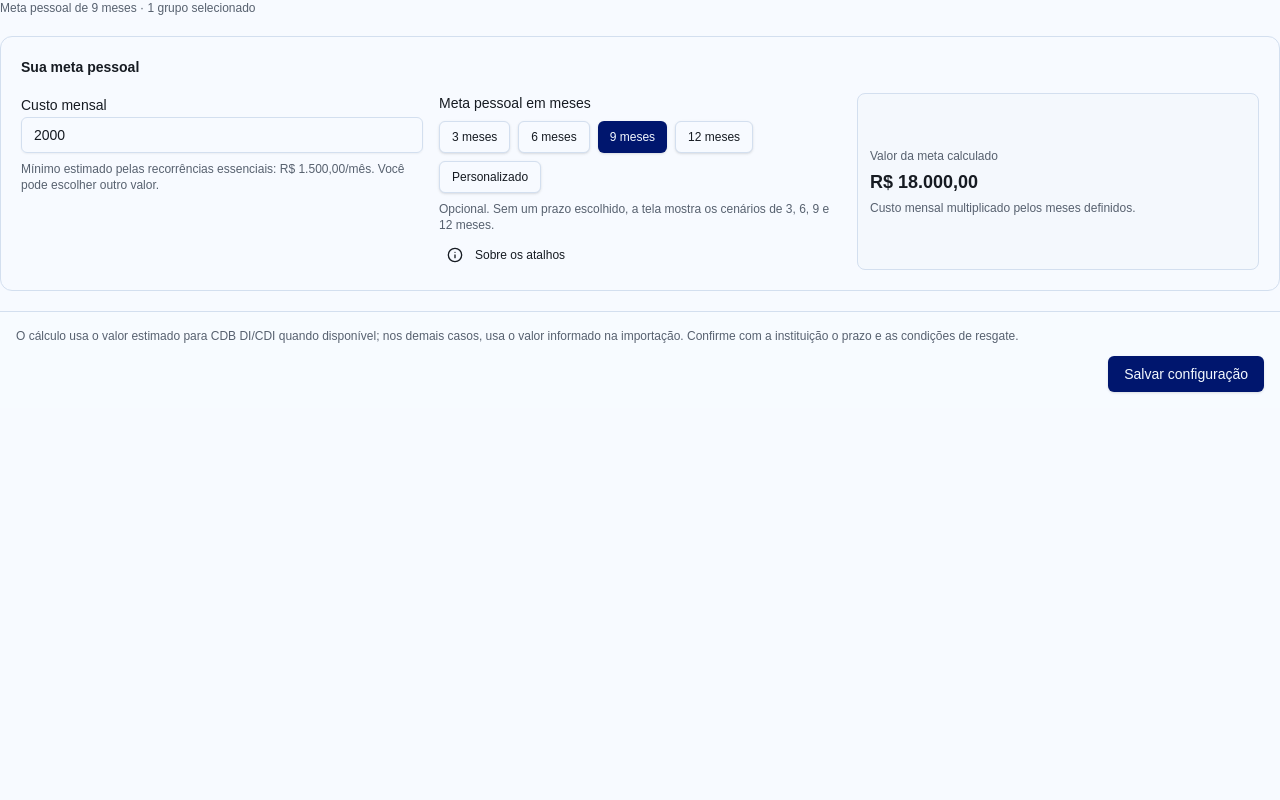
it: EmergencyReserveEditor › preserves a custom month value across shortcut changes and explains the shortcuts
The width and height of the screenshot is (1280, 800).
Check: the text "R$ 18.000,00" is shown, box left=870, top=172, right=978, bottom=192
What coordinates should you click on to do the following:
click the button "12 meses"
I would click on:
 (714, 137)
Its box is left=675, top=121, right=753, bottom=153.
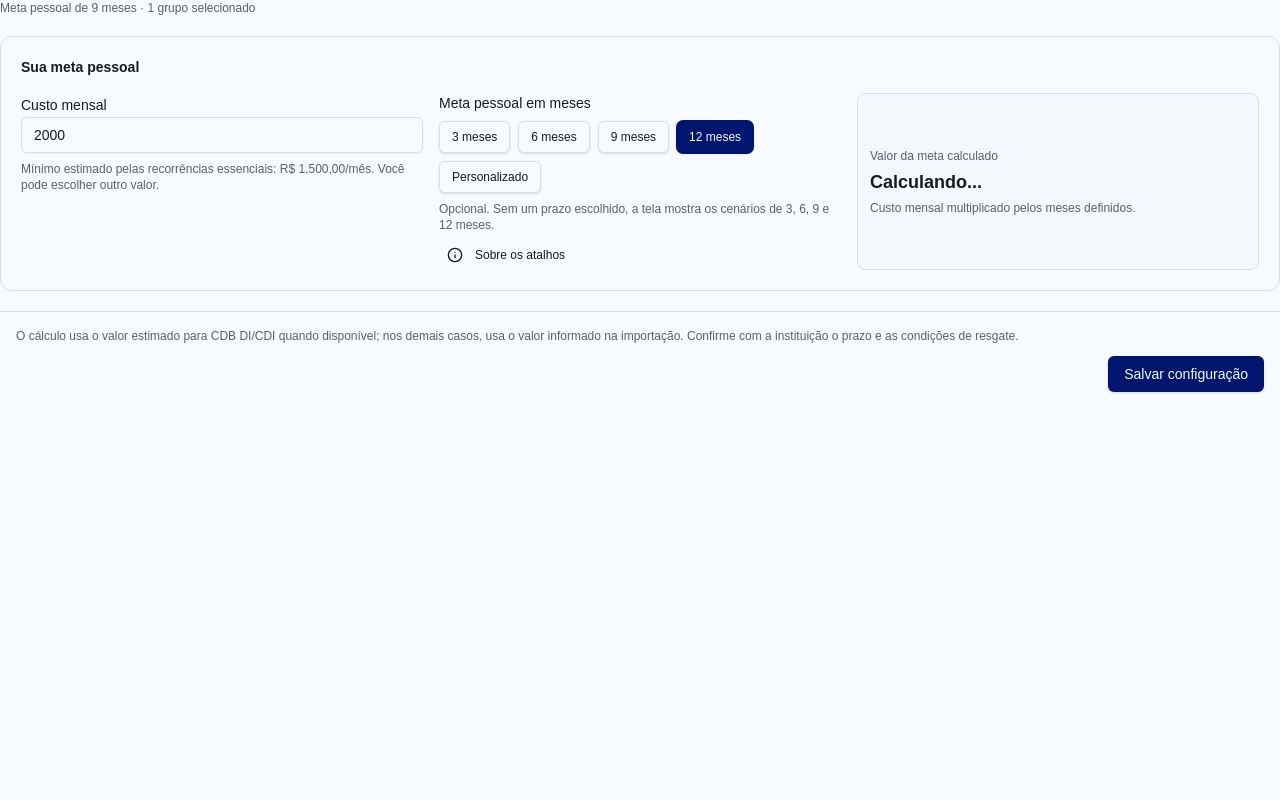
Check: the field labelled "Quantidade de meses" is not shown
What coordinates should you click on to do the following:
click the button "Personalizado"
I would click on:
 (490, 177)
Its box is left=439, top=161, right=541, bottom=193.
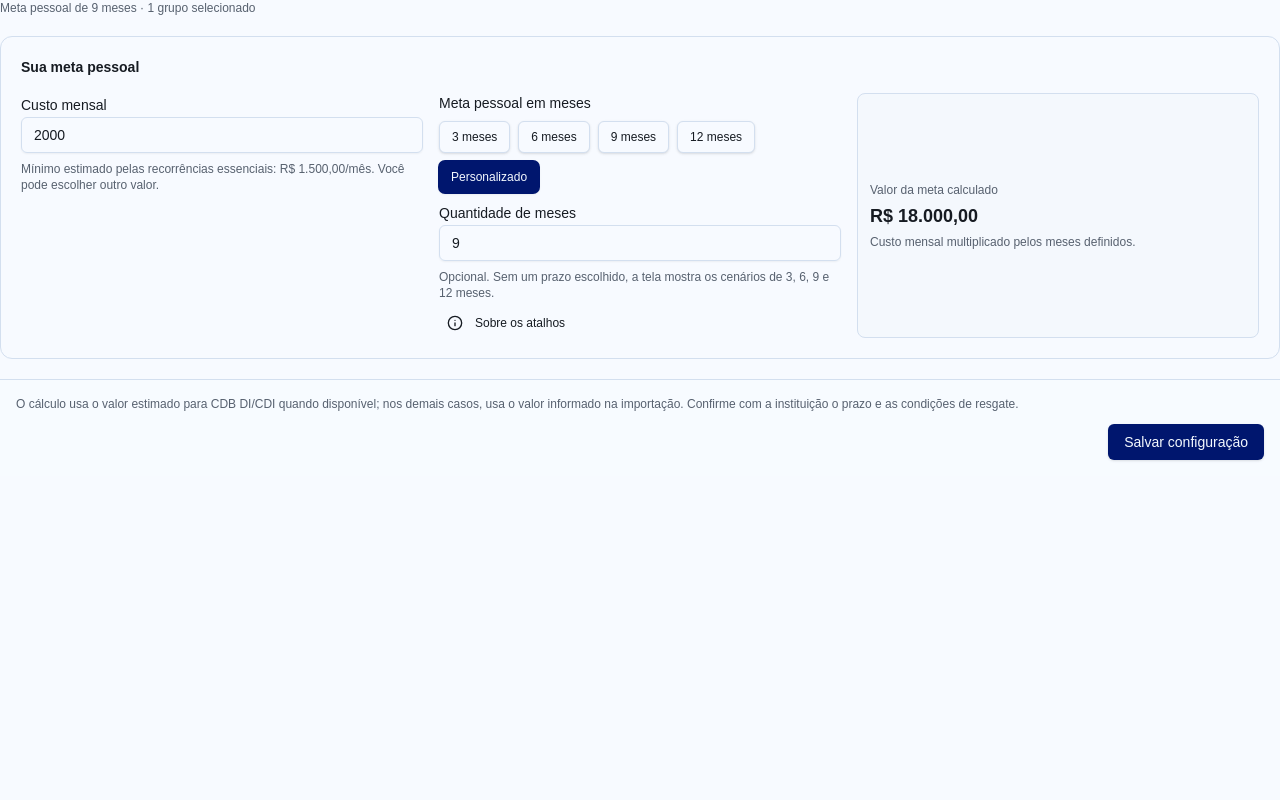
Check: the number field labelled "Quantidade de meses" holds "9", box left=439, top=225, right=841, bottom=261
What coordinates should you click on to do the following:
click the button "6 meses"
I would click on:
 (554, 137)
Its box is left=518, top=121, right=590, bottom=153.
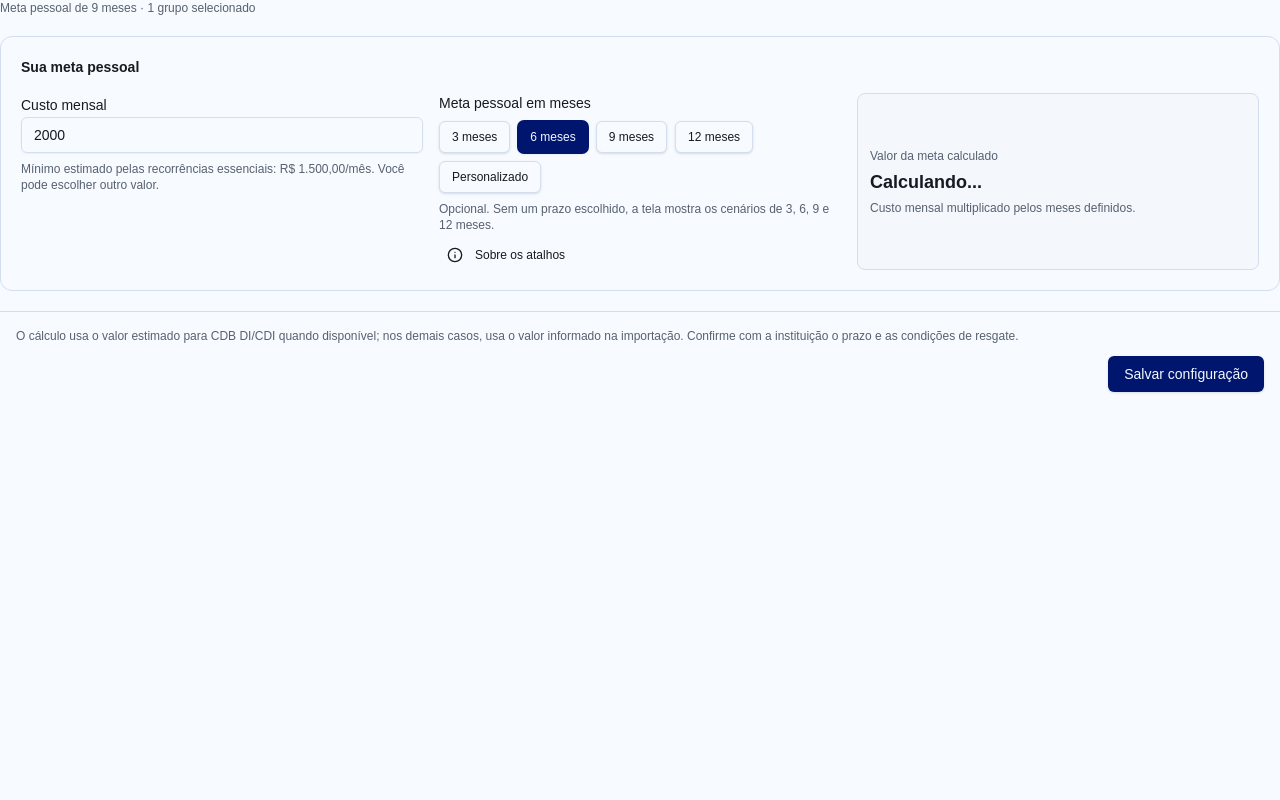
What coordinates should you click on to do the following:
click the button "Personalizado"
I would click on:
 (490, 177)
Its box is left=439, top=161, right=541, bottom=193.
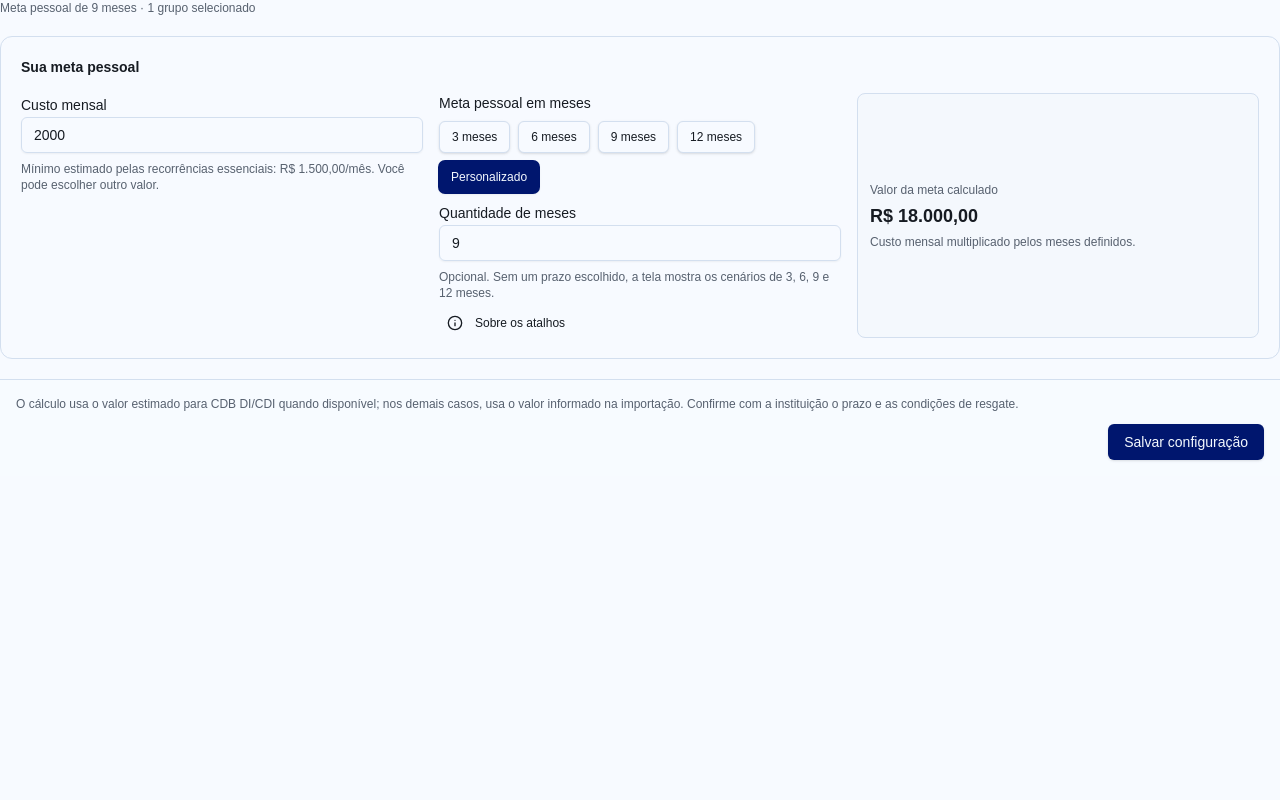
Check: the number field labelled "Quantidade de meses" holds "9", box left=439, top=225, right=841, bottom=261
What coordinates should you click on to do the following:
click the button "Sobre os atalhos"
I would click on:
 (506, 323)
Its box is left=439, top=309, right=573, bottom=337.
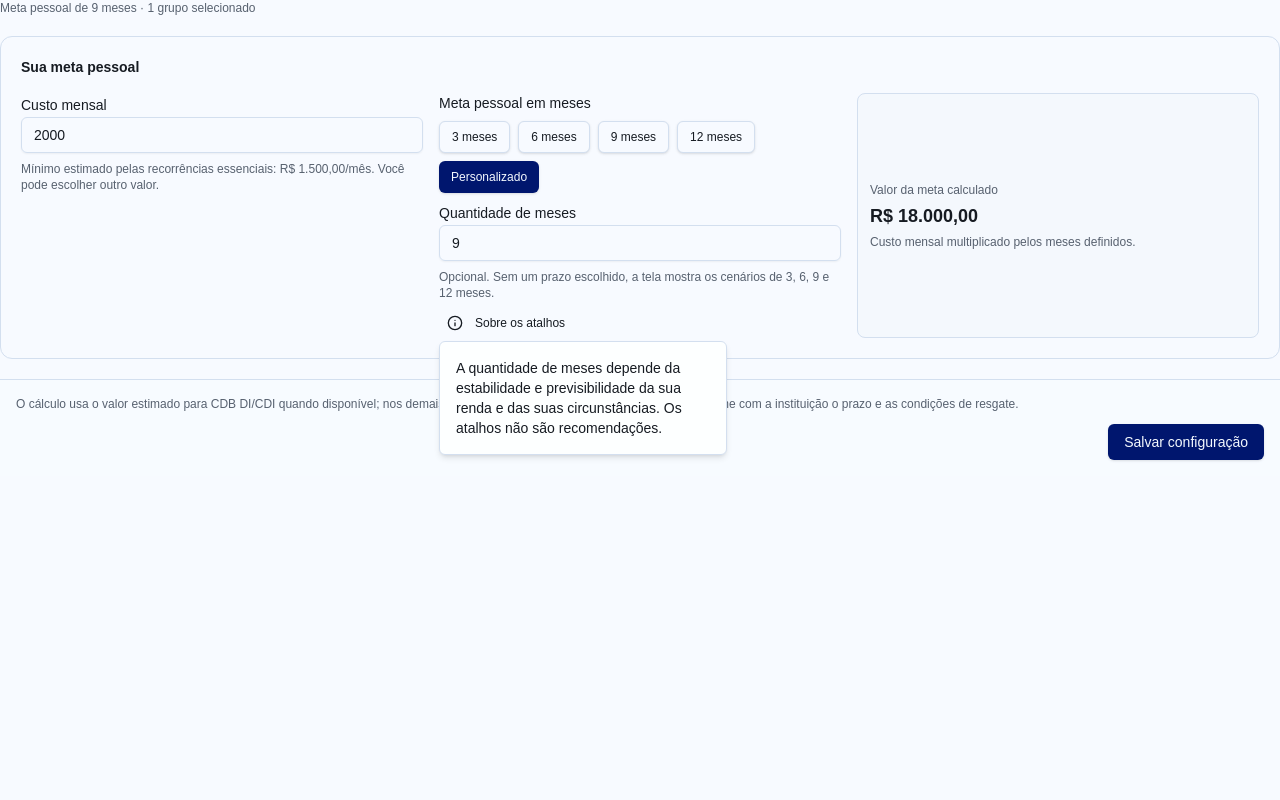
Check: the text "Os atalhos não são recomendações" is shown, box left=456, top=360, right=682, bottom=436
